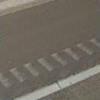crosswalk: (0, 38, 99, 87)
